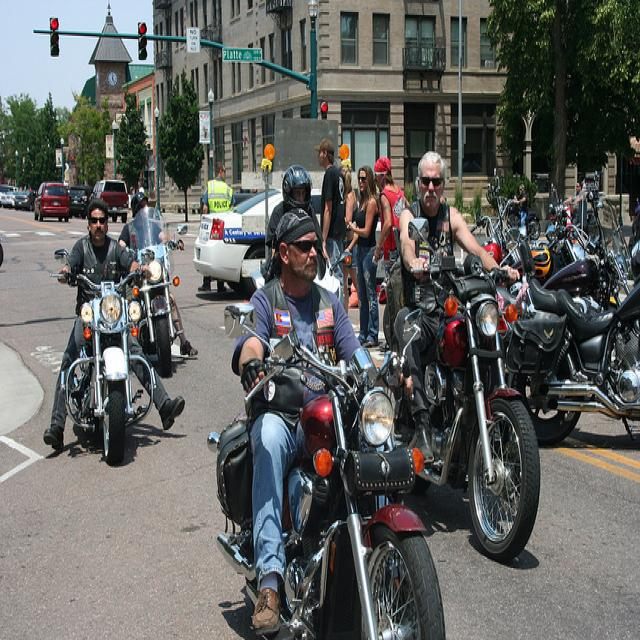motor: (225, 301, 446, 640), (380, 218, 540, 555), (504, 241, 640, 472), (47, 248, 156, 467), (543, 173, 632, 307), (129, 209, 188, 378), (544, 202, 590, 278), (472, 215, 533, 267), (497, 195, 541, 238), (627, 196, 640, 278)
